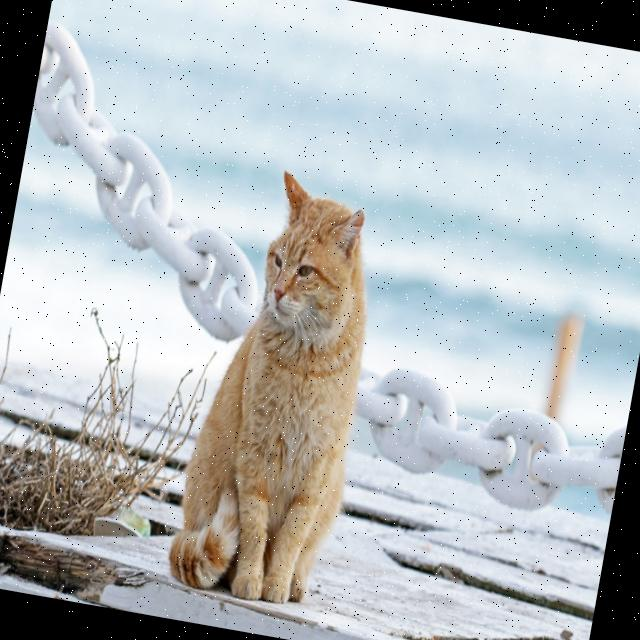cat: (165, 174, 367, 606)
